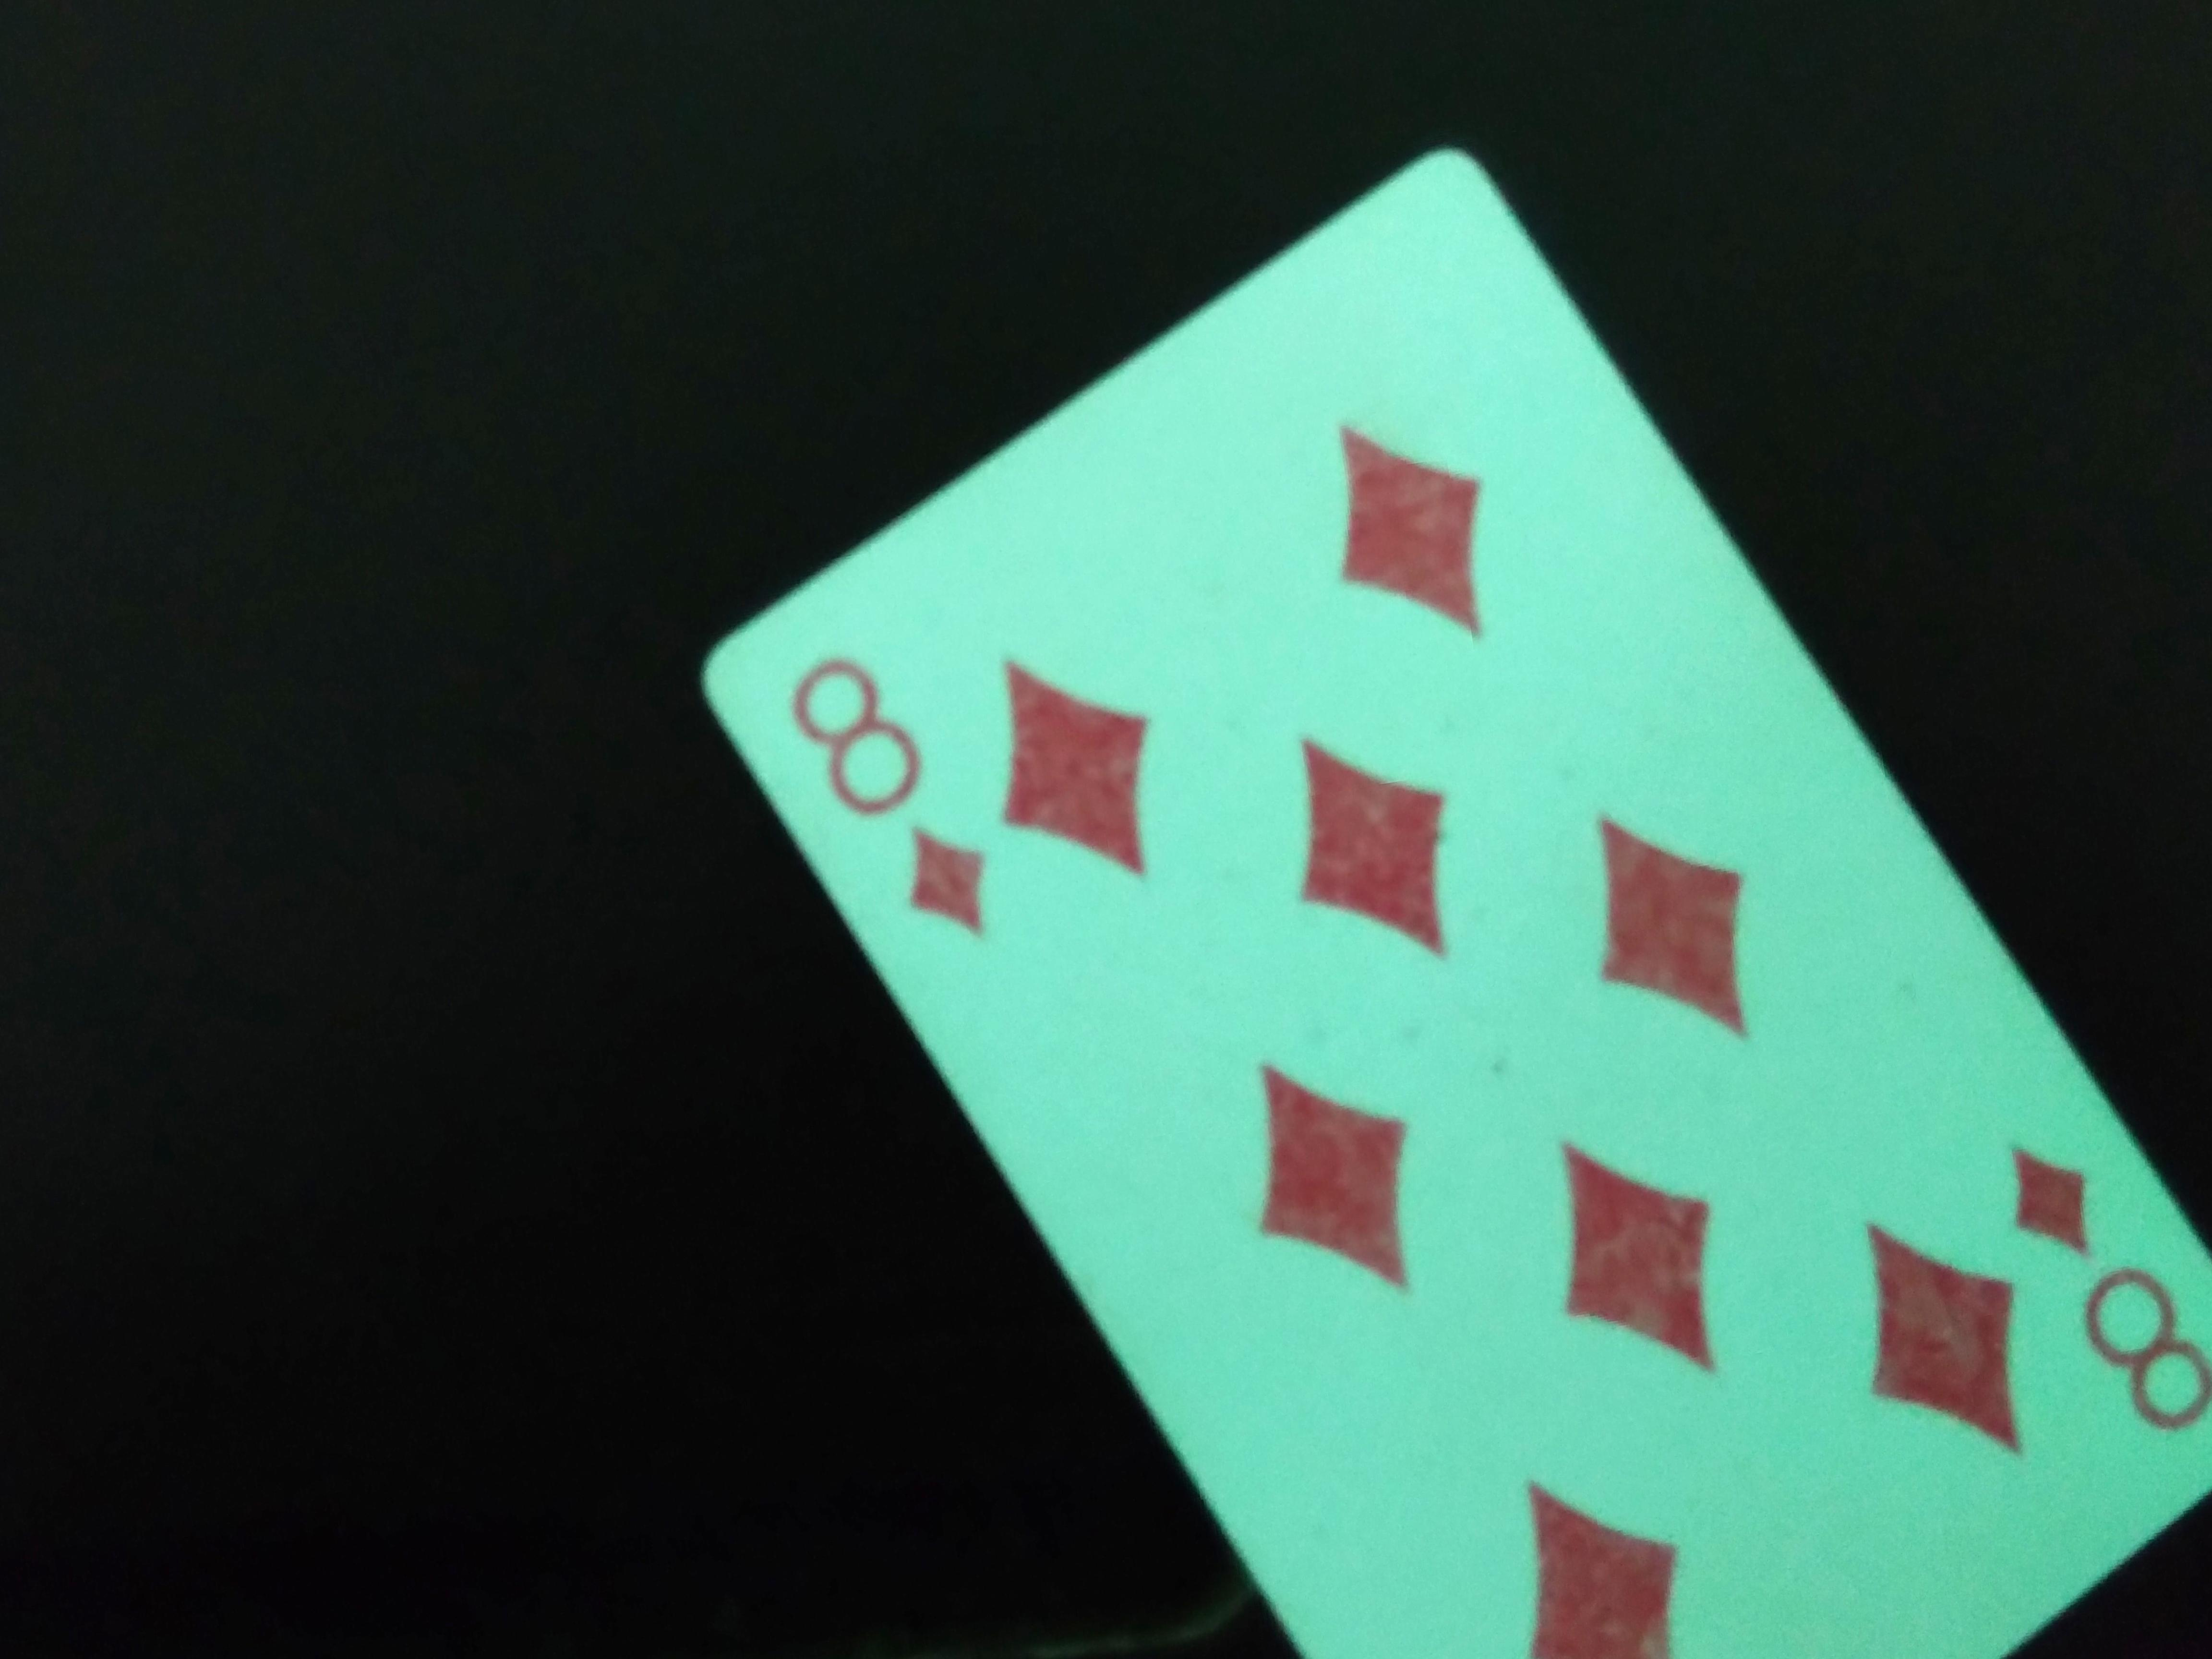8D: (772, 645, 1029, 967)
